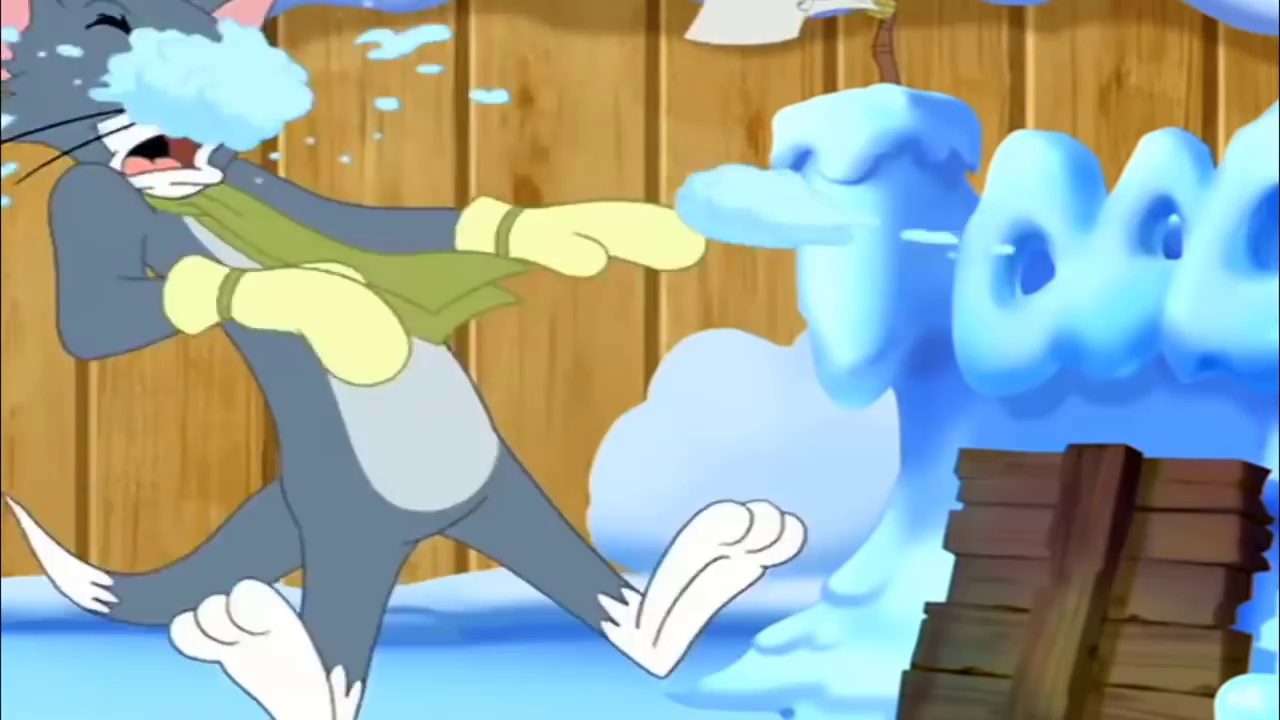face: (65, 12, 259, 196)
